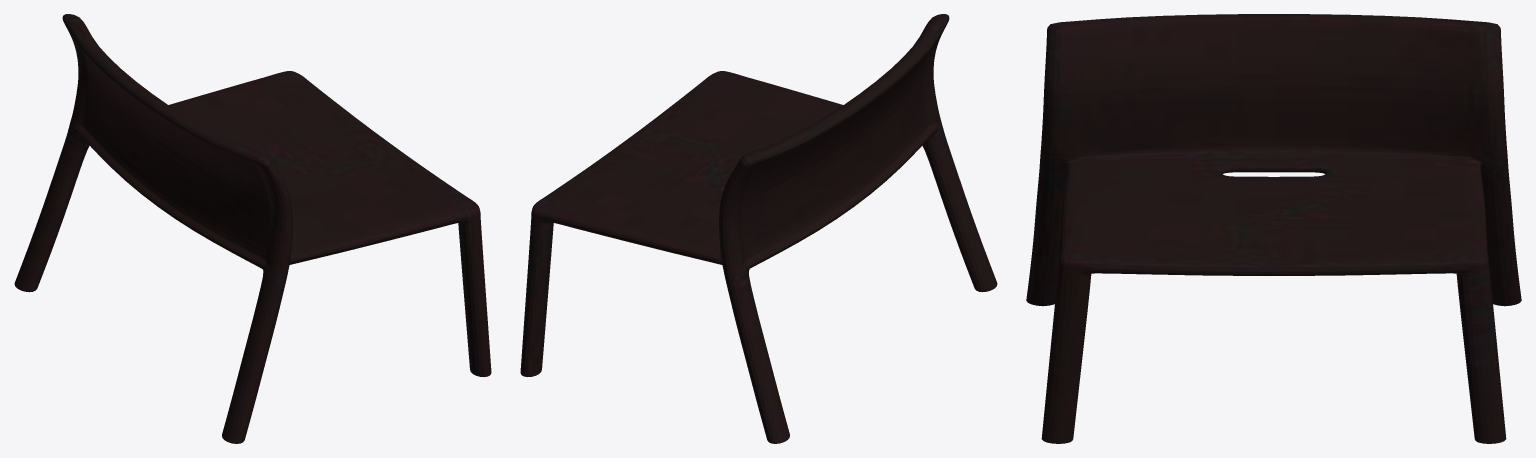
The model's file is chair_14.glb.
The picture shows the model from 3 angles, left to right: view 1: azimuth 30°, elevation 25°; view 2: azimuth 150°, elevation 25°; view 3: azimuth 270°, elevation 25°; orthographic projection. The views are drawn at different scales.
Parts seen in each view (by area): view 1: chair_14; view 2: chair_14; view 3: chair_14.
Part boxes in pixels (x1=…): chair_14: x1=14, y1=14, x2=491, y2=443; chair_14: x1=520, y1=14, x2=997, y2=443; chair_14: x1=1026, y1=14, x2=1521, y2=443.
Bounding box in the file's own units: 1.81 × 1.7 × 2.56.
Materials: 1 (1 with a texture image).
